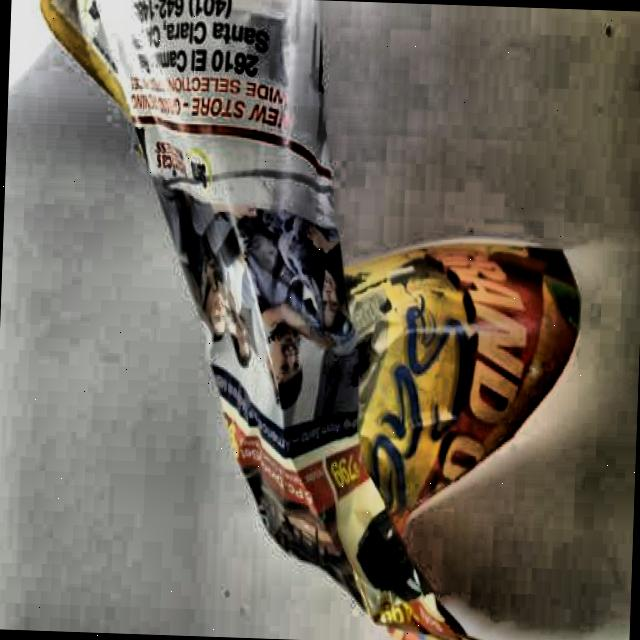paper: (8, 0, 603, 640)
